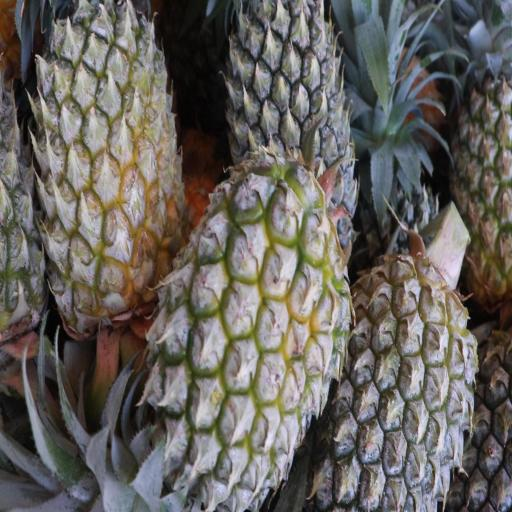------------------------------: (155, 182, 338, 500), (37, 0, 178, 337)
